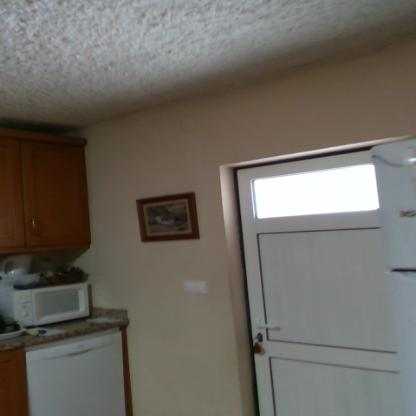closed: (200, 139, 414, 407)
